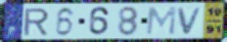6: (89, 6, 110, 37), (55, 6, 74, 37)
8: (117, 5, 140, 38)
M: (145, 6, 178, 36)
R: (22, 7, 51, 37)
V: (176, 6, 205, 36)
